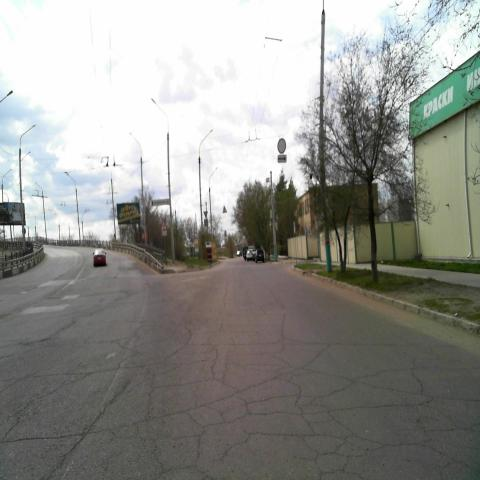3_2: (278, 137, 286, 154)
